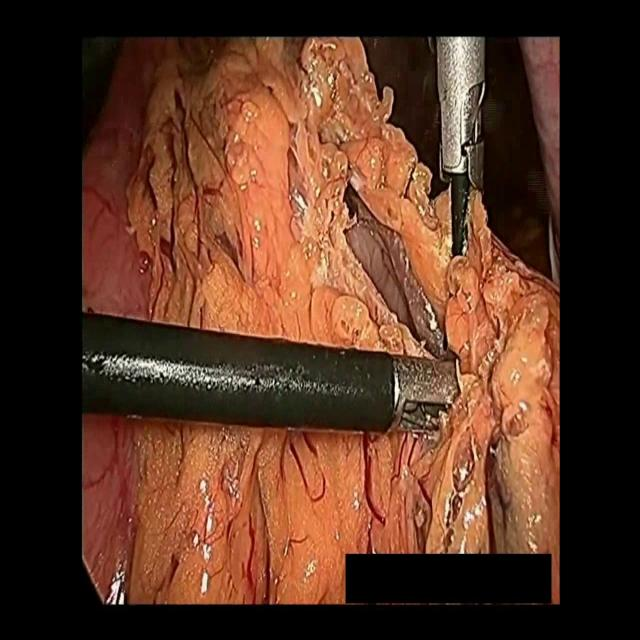surgical-area: (80, 32, 560, 604)
surgical-tool: (82, 312, 464, 444), (436, 34, 494, 260), (518, 36, 560, 290)
